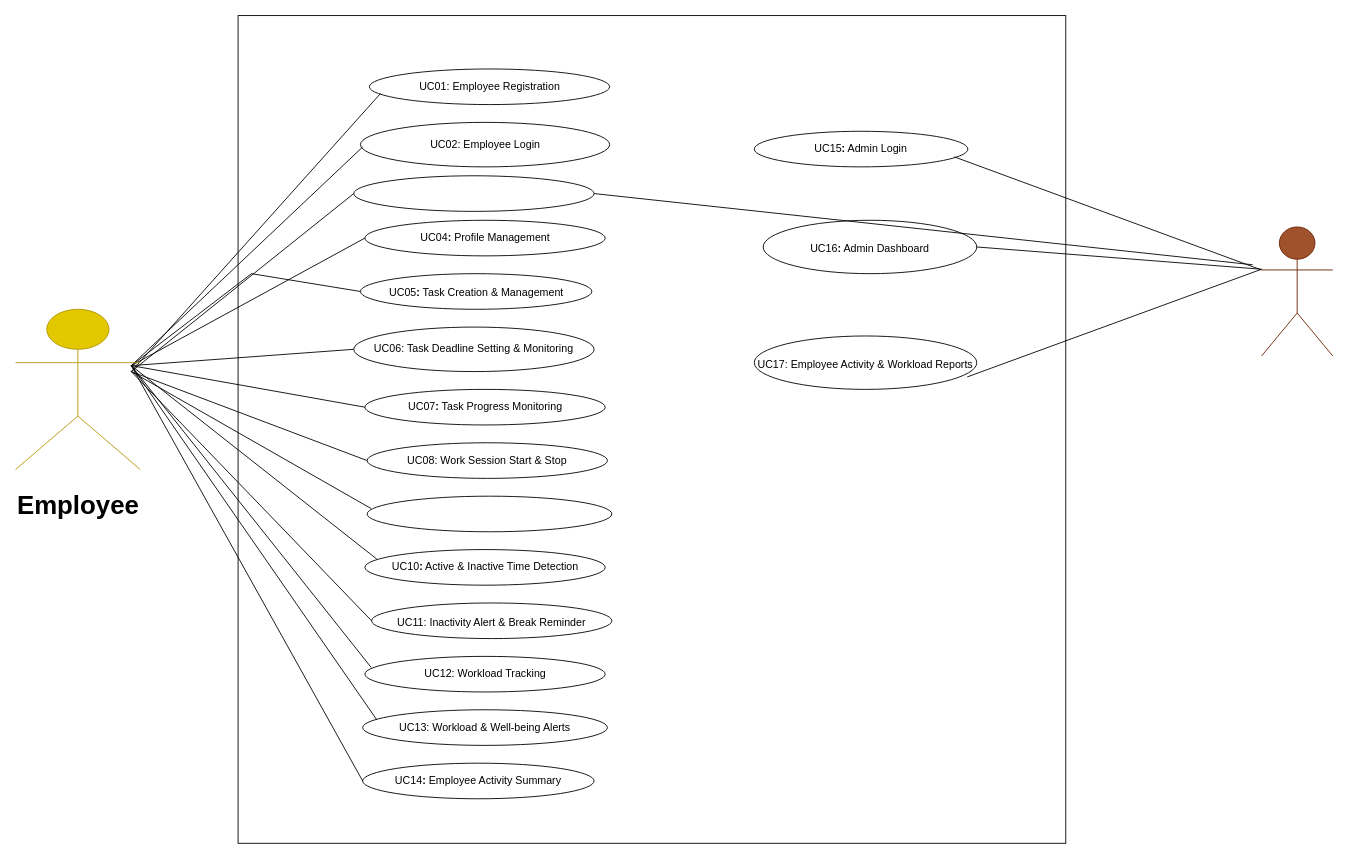
Image size: 1354x859. Some labels were removed from this diagram. The shapes that lost their labels are listed below. From the top down, each one's box as (x1, y1, x2, y2) in pixels, then its label:
(353, 175, 594, 211): UC03 : Logout
(1261, 226, 1333, 356): Admin
(366, 495, 612, 532): UC09: Keyboard & Mouse Activity Monitoring
